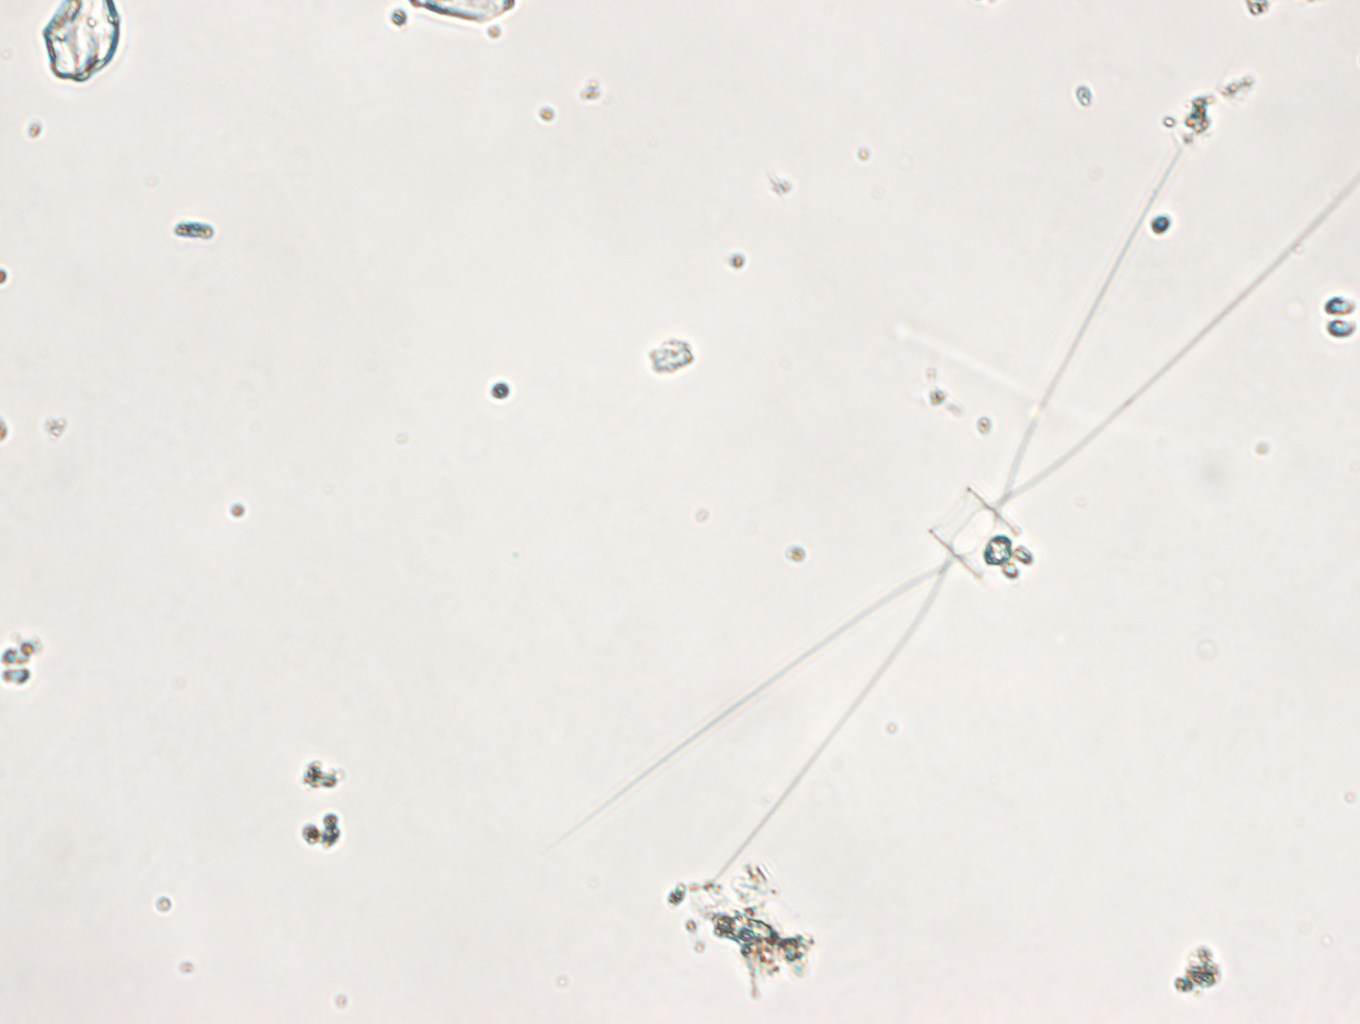chaetoceros: (555, 130, 1360, 885)
